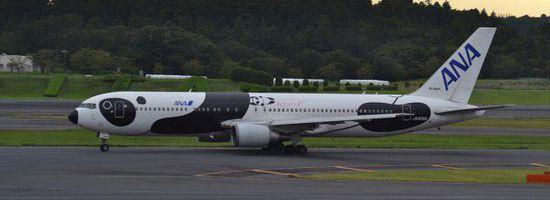airplane: (67, 25, 500, 151)
